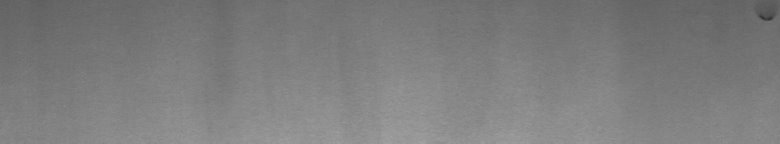fi: (755, 8, 776, 28)
